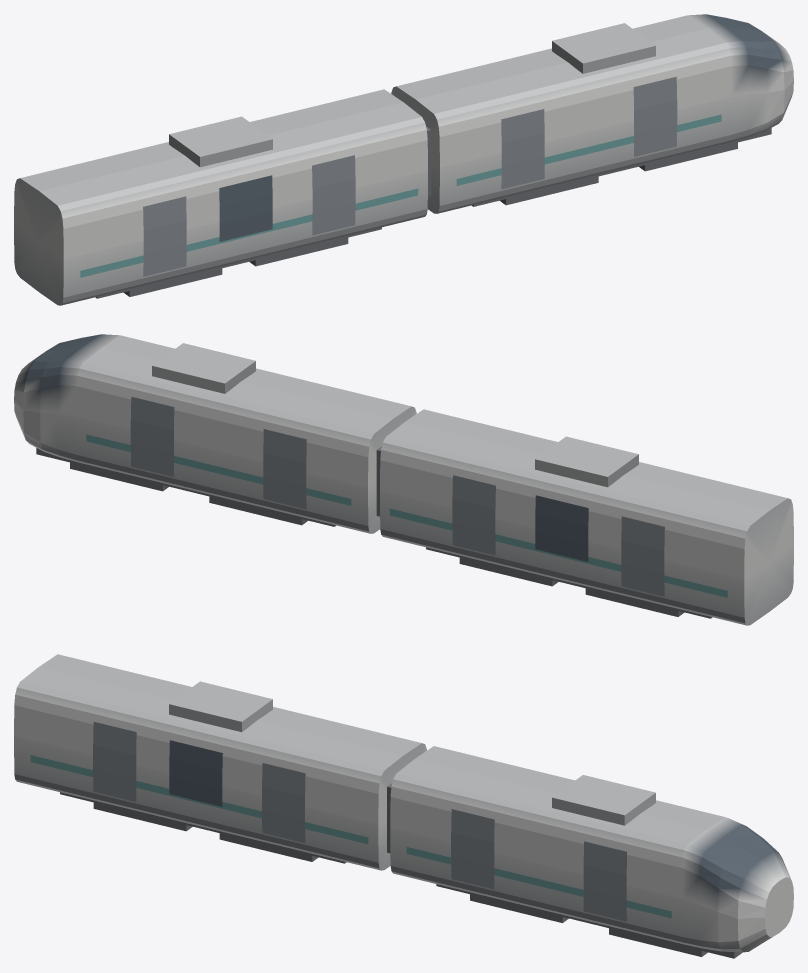
Rendered from 06_more_transit_3x2-02.glb.
3 renders of one model, top to bottom at view 1: azimuth 30°, elevation 25°; view 2: azimuth 150°, elevation 25°; view 3: azimuth 330°, elevation 25°, orthographic.
Size of the model in its own units: 22.36 by 3.48 by 2.64.
